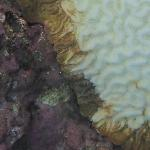dead: (3, 3, 147, 147)
